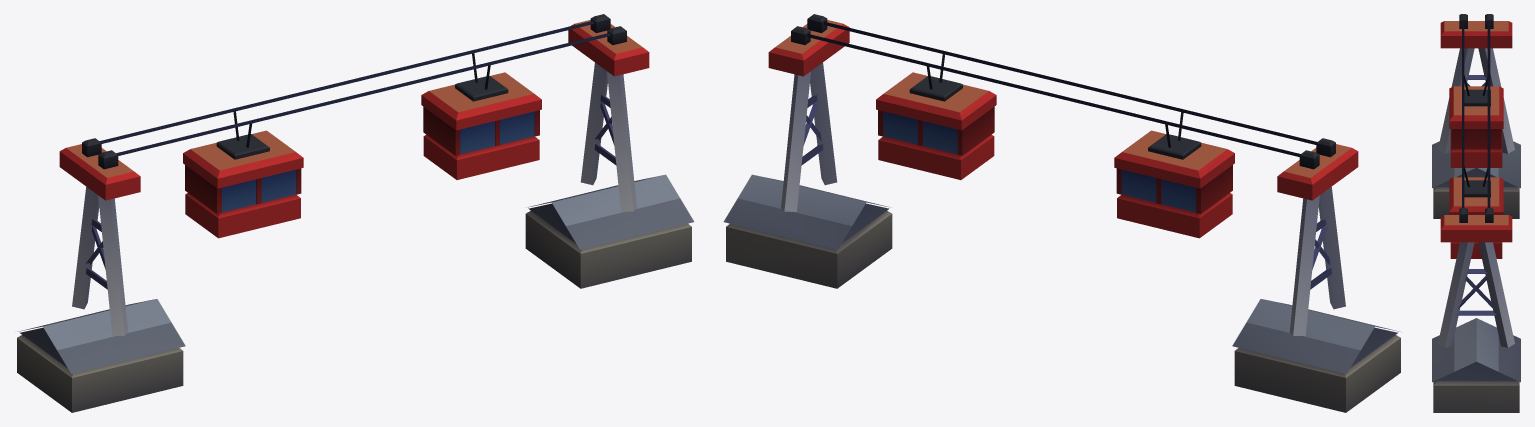
File: teleferico.glb
3 views of the same model, side by side, from view 1: azimuth 30°, elevation 25°; view 2: azimuth 150°, elevation 25°; view 3: azimuth 270°, elevation 25° (orthographic). The views are drawn at different scales.
Parts seen in each view (by area): view 1: towers, cabin_b, cabin_a, cable; view 2: towers, cabin_b, cabin_a, cable; view 3: towers, cabin_a, cabin_b, cable.
Part boxes in pixels (bbox=[...]): towers: bbox=[17, 14, 694, 412]; cabin_b: bbox=[421, 53, 541, 179]; cabin_a: bbox=[183, 111, 303, 238]; cable: bbox=[99, 21, 610, 155]; towers: bbox=[723, 14, 1400, 412]; cabin_b: bbox=[876, 53, 996, 179]; cabin_a: bbox=[1114, 111, 1234, 238]; cable: bbox=[807, 21, 1316, 156]; towers: bbox=[1432, 14, 1520, 412]; cabin_a: bbox=[1449, 75, 1503, 167]; cabin_b: bbox=[1449, 166, 1503, 258]; cable: bbox=[1462, 21, 1490, 207].
Bounding box in the file's own units: 39.2 × 14 × 6.2.
